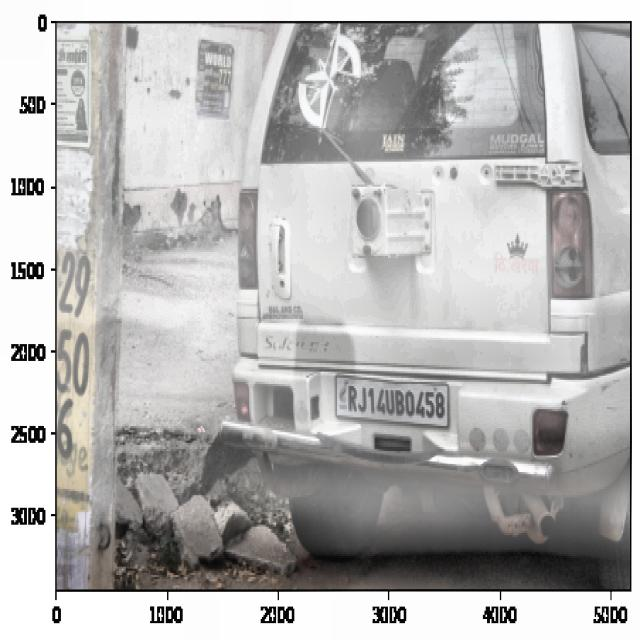license_plate: (342, 382, 453, 428)
